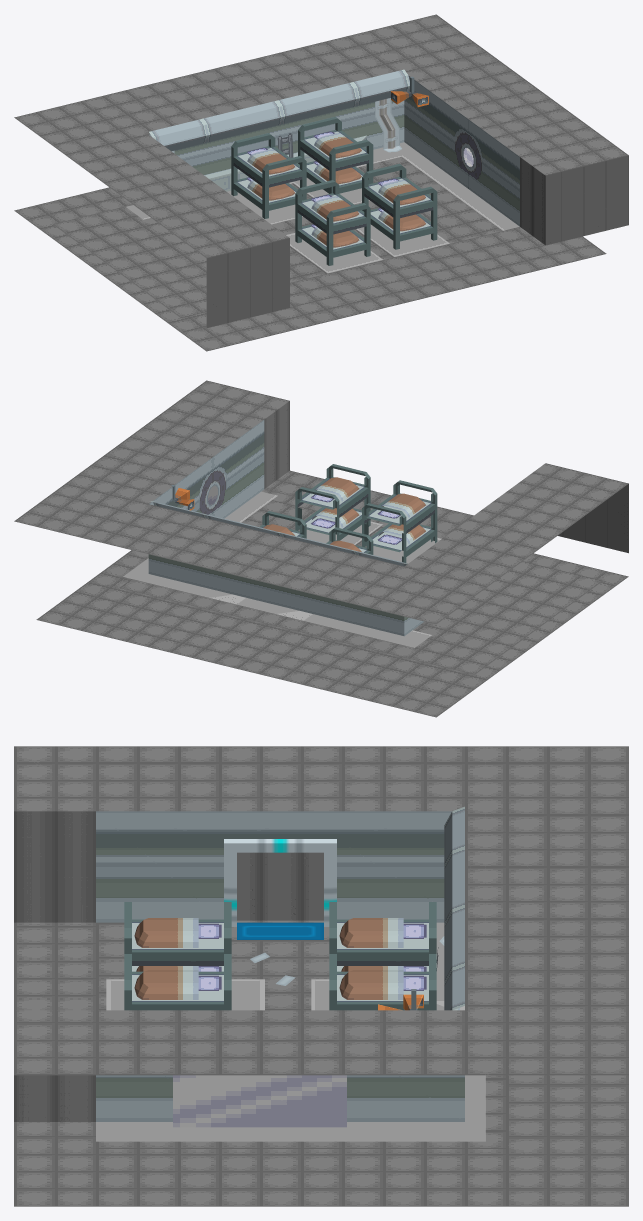
Rendered from CABIN1-1.obj.
3 renders of one model, top to bottom at view 1: azimuth 30°, elevation 25°; view 2: azimuth 150°, elevation 25°; view 3: azimuth 270°, elevation 25°, orthographic. The views are drawn at different scales.
Parts seen in each view (by area): view 1: polygon0, polygon1, polygon3, polygon4, polygon6, polygon2, polygon7; view 2: polygon0, polygon3, polygon1, polygon6, polygon4; view 3: polygon0, polygon3, polygon1, polygon6, polygon8, polygon2, polygon4.
Part boxes in pixels (x1=…): polygon0: x1=14, y1=14, x2=628, y2=351; polygon1: x1=231, y1=116, x2=437, y2=265; polygon3: x1=149, y1=75, x2=519, y2=226; polygon4: x1=149, y1=69, x2=409, y2=191; polygon6: x1=126, y1=142, x2=519, y2=273; polygon2: x1=172, y1=98, x2=401, y2=153; polygon7: x1=391, y1=76, x2=428, y2=107; polygon0: x1=14, y1=380, x2=628, y2=717; polygon3: x1=148, y1=420, x2=424, y2=636; polygon1: x1=259, y1=464, x2=437, y2=562; polygon6: x1=123, y1=491, x2=441, y2=647; polygon4: x1=150, y1=501, x2=407, y2=566; polygon0: x1=14, y1=746, x2=628, y2=1206; polygon3: x1=96, y1=811, x2=464, y2=1121; polygon1: x1=124, y1=902, x2=436, y2=1010; polygon6: x1=96, y1=922, x2=485, y2=1141; polygon8: x1=173, y1=1075, x2=346, y2=1127; polygon2: x1=224, y1=839, x2=444, y2=985; polygon4: x1=444, y1=806, x2=464, y2=1010.
Bounding box in the file's own units: 4.75 × 1.09 × 3.75.
